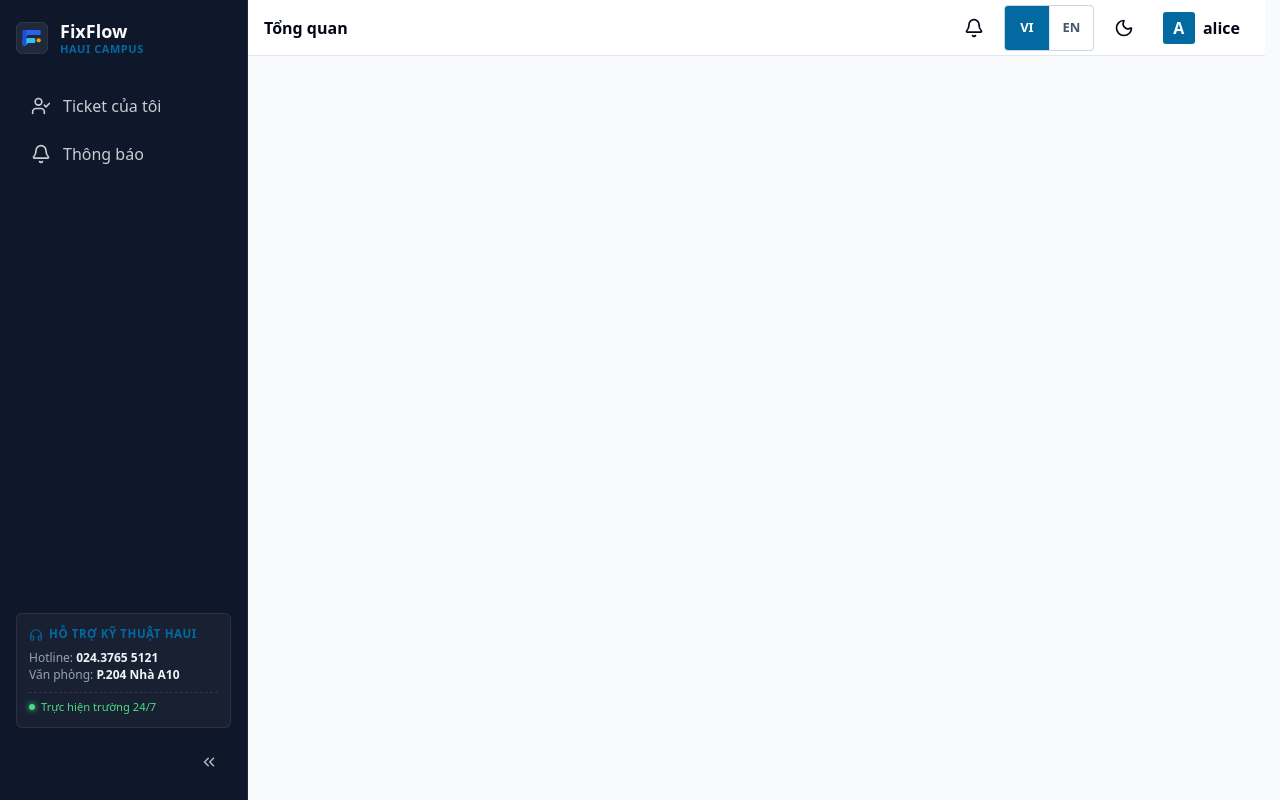
Layout › user menu shows username, role and logout; Esc closes it
Click the button with aria-label "Tài khoản alice".
click(1201, 28)  # box left=1154, top=6, right=1249, bottom=50
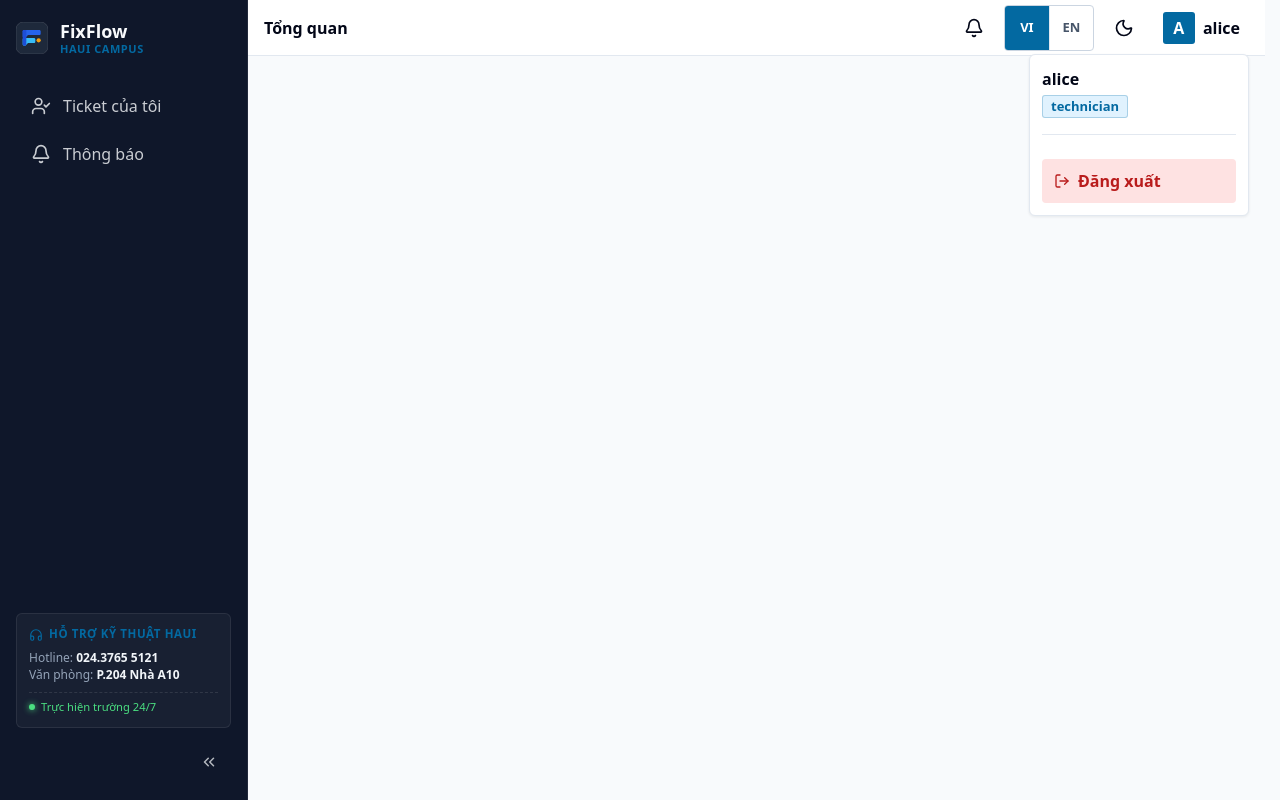
Expected: the text "technician" is shown, left=1042, top=94, right=1128, bottom=118
Expected: the button "Đăng xuất" is shown, left=1042, top=159, right=1236, bottom=203
Press Escape
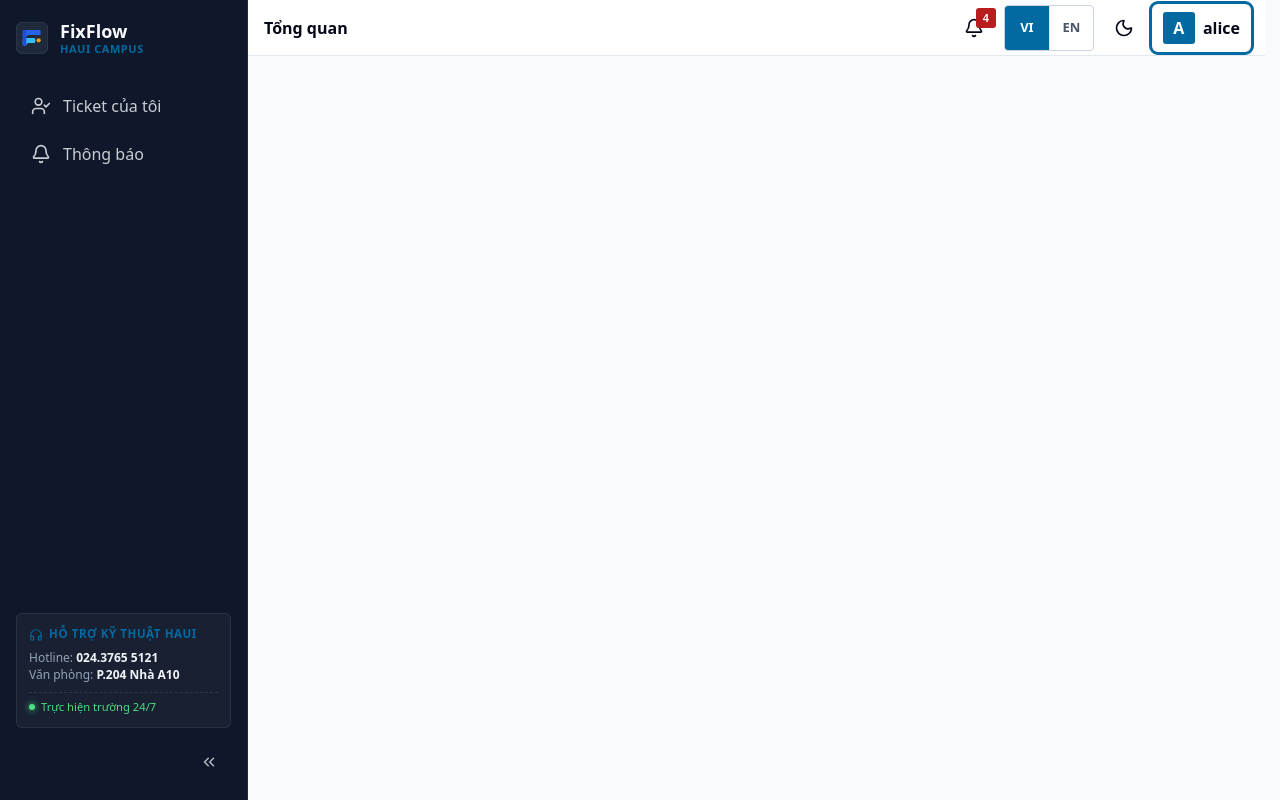
Expected: the button "Đăng xuất" is gone
